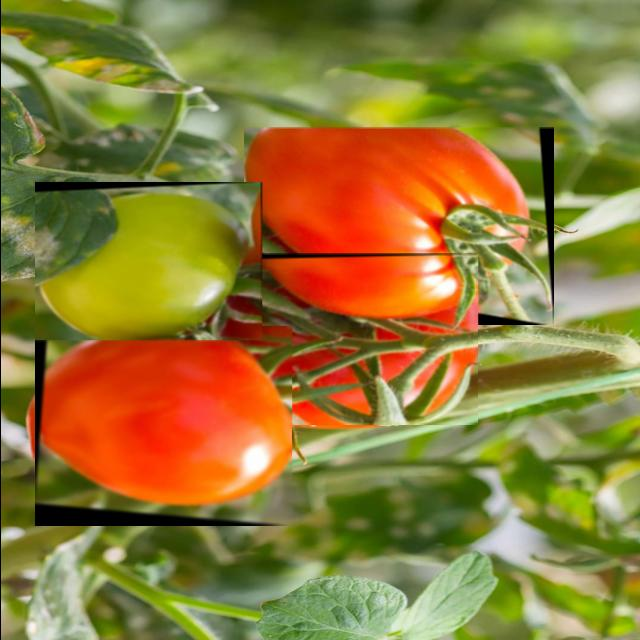tomato: (243, 126, 553, 324), (34, 326, 291, 526), (232, 252, 477, 424), (34, 182, 261, 340)
